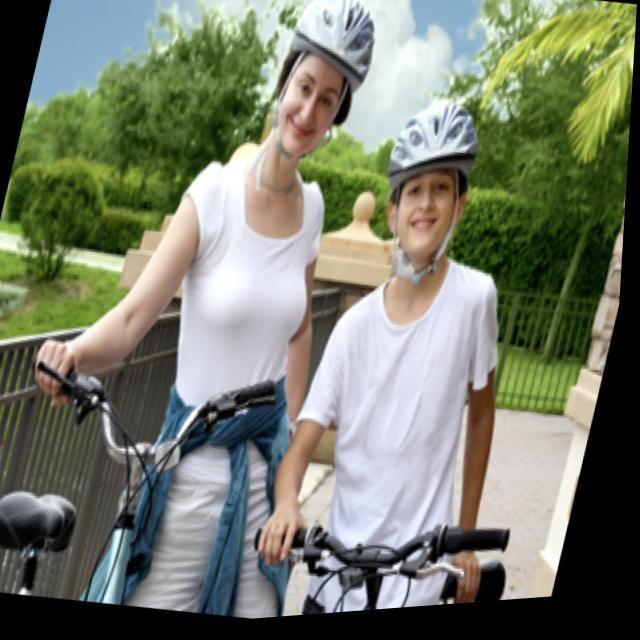Helmet: (372, 82, 489, 277), (262, 0, 380, 169)
